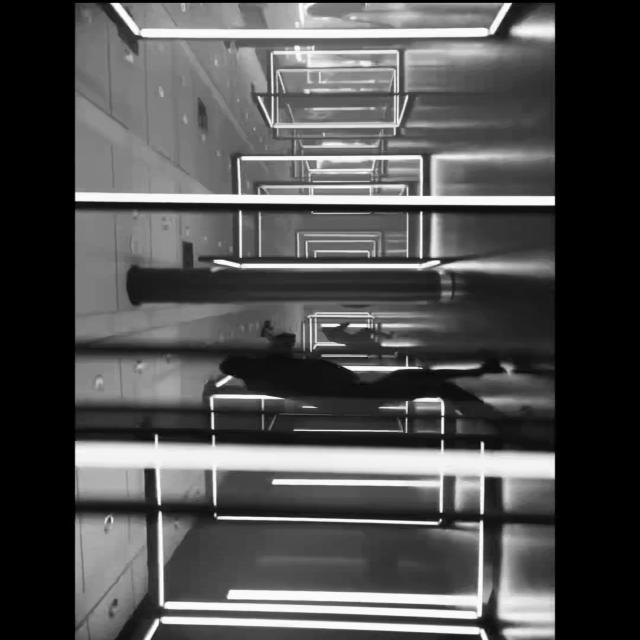weapons: (240, 306, 308, 346)
